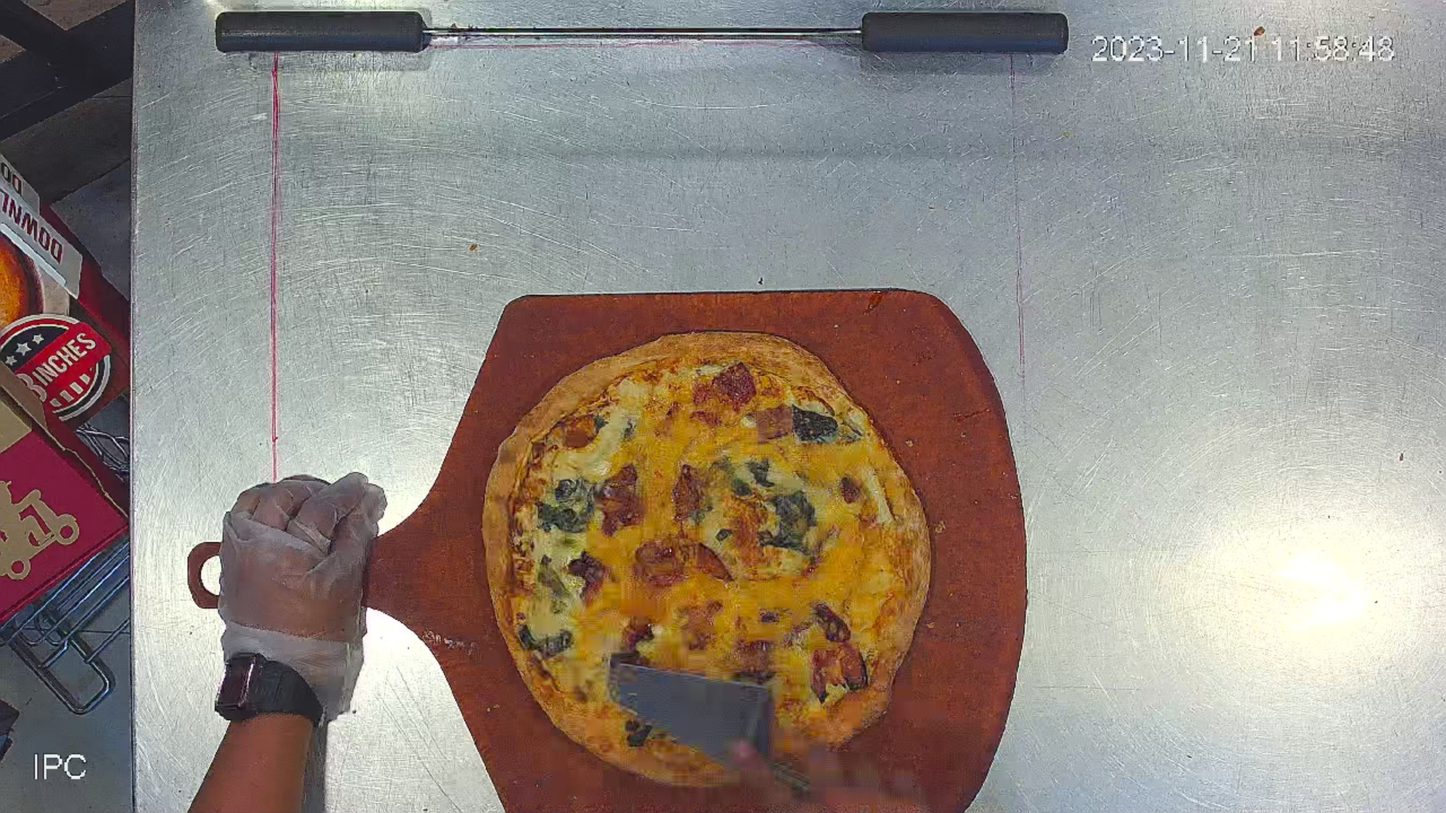pepporoni: (481, 327, 932, 801)
